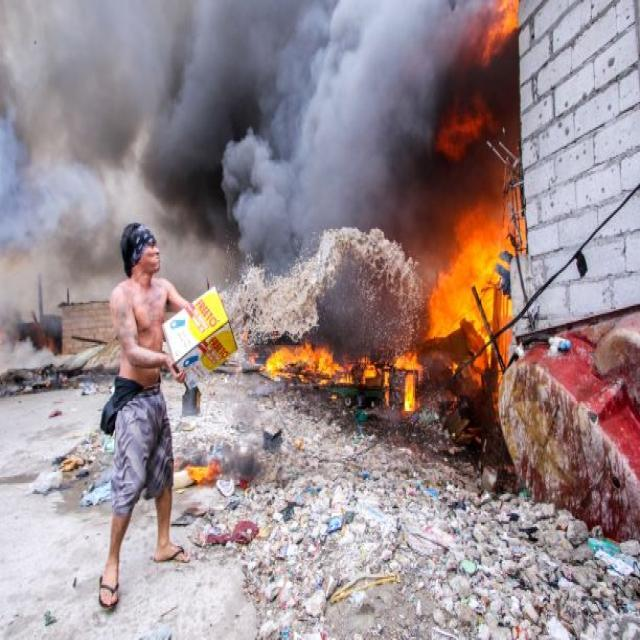Fire: (426, 218, 528, 370), (266, 336, 344, 395), (437, 96, 502, 164), (373, 352, 427, 416), (470, 0, 526, 54)
Smoke: (0, 1, 261, 216), (224, 0, 418, 245)
